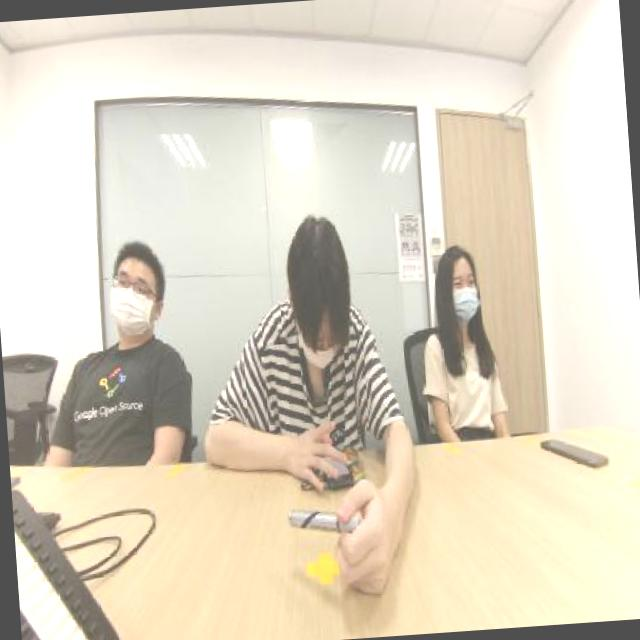Person: (256, 122, 365, 486), (400, 164, 521, 434), (70, 228, 184, 448)
